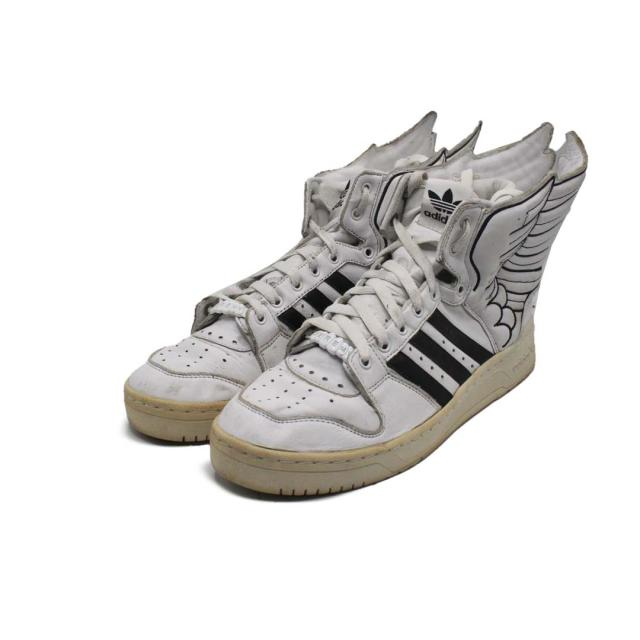midsole: (207, 328, 538, 500), (123, 382, 212, 445)
uppersole: (214, 144, 551, 451), (130, 146, 415, 409)
